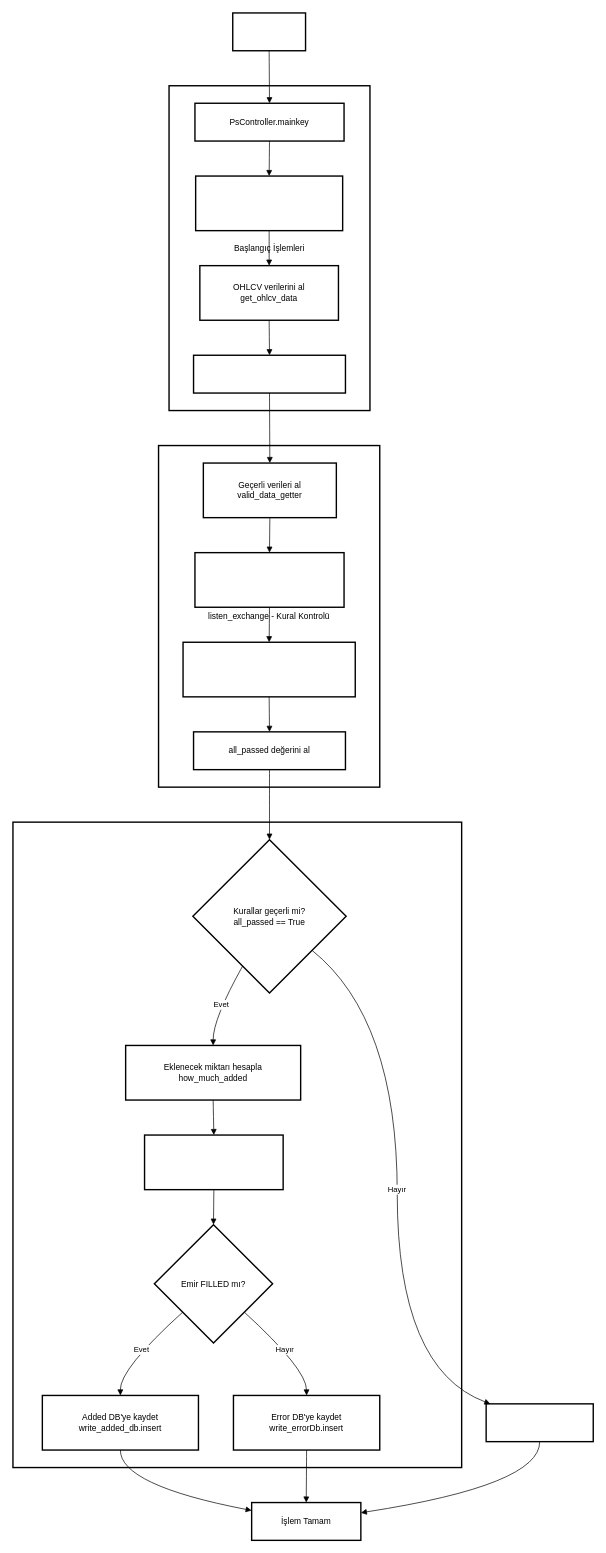
Image size: 606x1553. Some labels were removed from this diagram. Here are the shapes that lost their labels. From the top down, the centre of each, then its label:
At pixel 269 31: "BAŞLA".
At pixel 269 203: "Sembol bilgilerini al get_symbol_pos_side".
At pixel 269 373: "listen_exchange'a geç".
At pixel 269 580: "Kuralları yükle load_rules_from_dict".
At pixel 269 669: "Tüm kuralları değerlendir evaluate_all_rules".
At pixel 214 1162: "Piyasa emri gönder market_order".
At pixel 539 1422: "False döndür".
